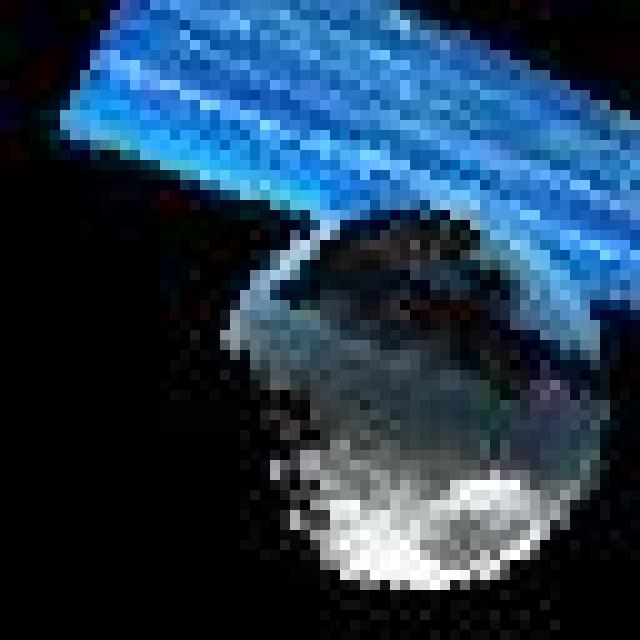Death Star: (207, 198, 614, 595)
